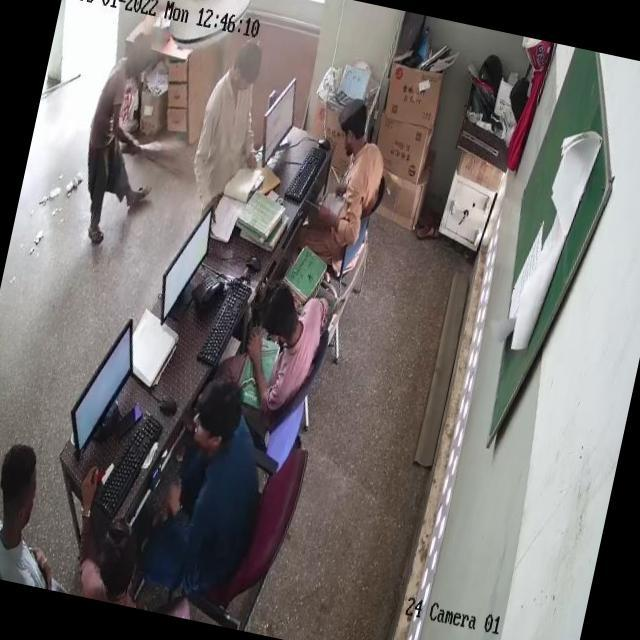person: (68, 38, 154, 268), (158, 376, 274, 544), (186, 41, 266, 212), (0, 436, 72, 587), (248, 272, 332, 391), (65, 524, 159, 610), (322, 130, 384, 254)
